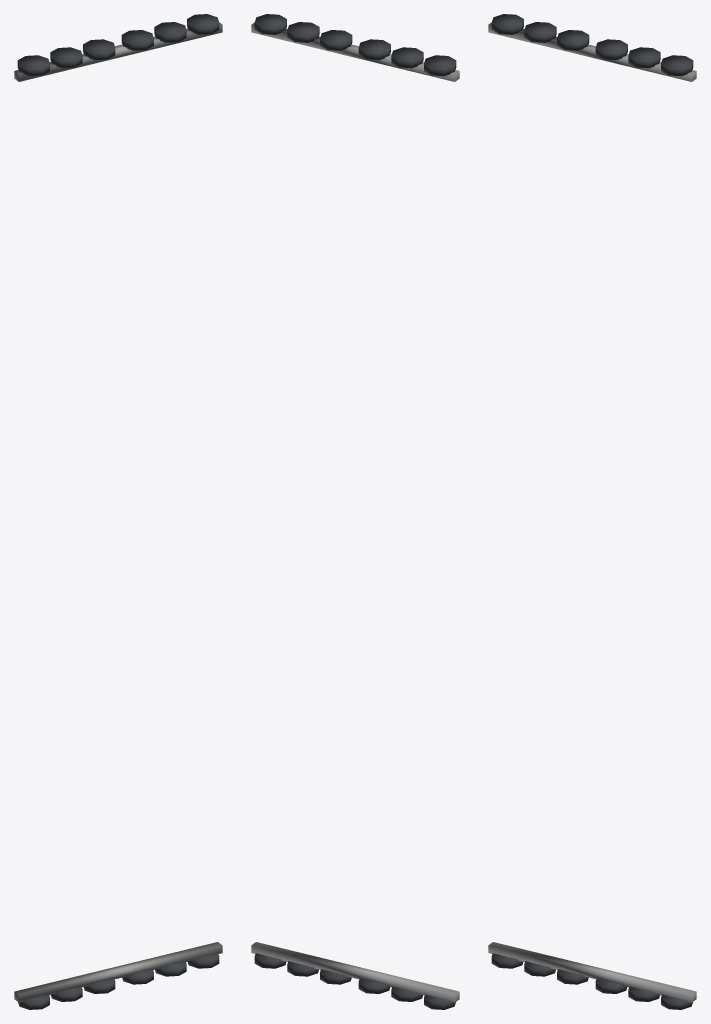
The model's file is Pylon_AerialCab_rollers.obj.
3 renders of one model, left to right at view 1: azimuth 30°, elevation 25°; view 2: azimuth 150°, elevation 25°; view 3: azimuth 330°, elevation 25°, orthographic.
Parts seen in each view (by area): view 1: Pylon_AerialCab_rollers; view 2: Pylon_AerialCab_rollers; view 3: Pylon_AerialCab_rollers.
Part boxes in pixels (left/top/right/bottom): Pylon_AerialCab_rollers: left=14, top=14, right=222, bottom=1009; Pylon_AerialCab_rollers: left=251, top=14, right=459, bottom=1009; Pylon_AerialCab_rollers: left=488, top=14, right=696, bottom=1009.
Size of the model in its own units: 3.5 by 15.48 by 0.5.
Materials: 1 (1 with a texture image).
